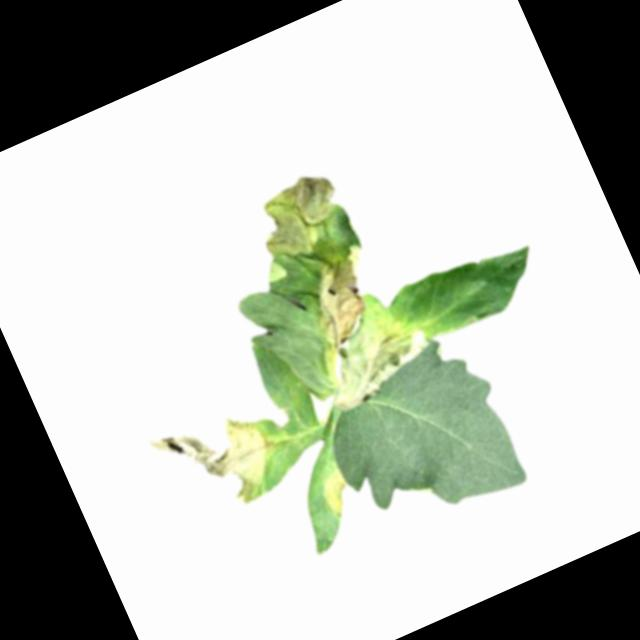Late_blight: (144, 391, 294, 533), (298, 278, 444, 415), (236, 163, 360, 280), (302, 242, 381, 313), (313, 467, 359, 521)
